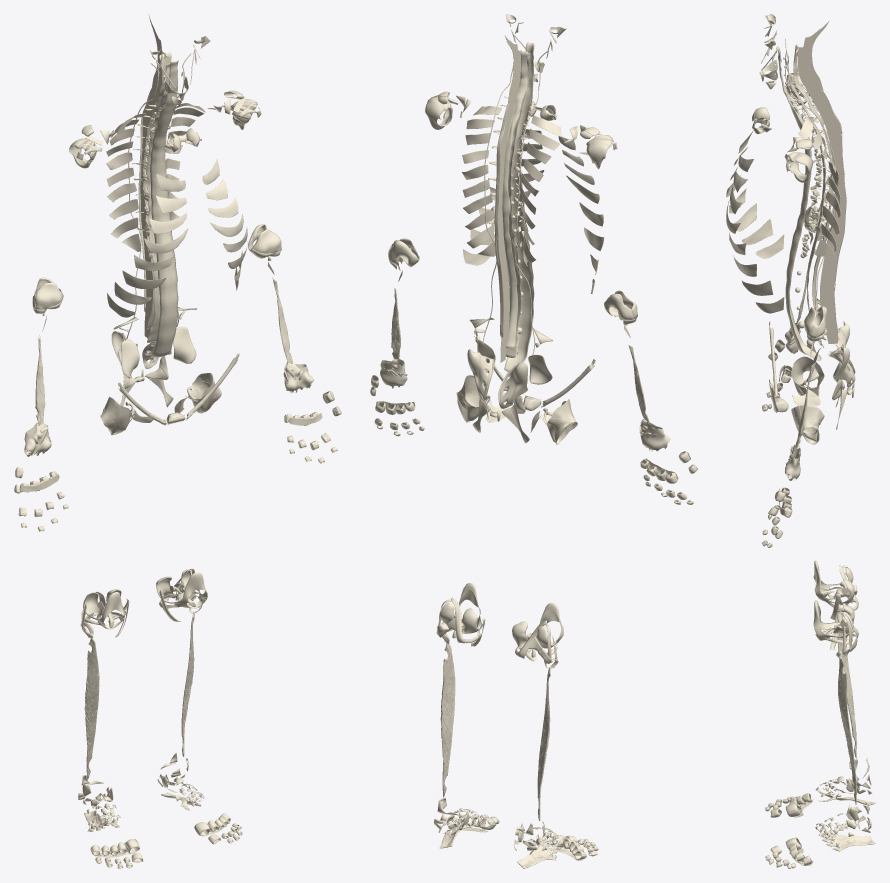
File: ligaments.glb
3 renders of one model, left to right at view 1: azimuth 30°, elevation 25°; view 2: azimuth 150°, elevation 25°; view 3: azimuth 270°, elevation 25°, orthographic.
Parts seen in each view (by area): view 1: Anterior longitudinal ligament, External intercostal membrane.r, Internal intercostal membrane.r, External intercostal membrane.l, Interosseous membrane of leg.r, Interspinous ligaments, Posterior longitudinal ligament, Articular capsule of knee joint.l, Internal intercostal membrane.l, Articular capsule of knee joint.r, Ligamenta flava, Articular capsule of elbow joint.l (+3 smaller); view 2: Anterior longitudinal ligament, Internal intercostal membrane.l, Ligamenta flava, Internal intercostal membrane.r, Interspinous ligaments, Interosseous membrane of leg.l, External intercostal membrane.r, Posterior longitudinal ligament, Articular capsule of knee joint.l, Supraspinous ligament, Articular capsule of knee joint.r, Posterior sacro-iliac ligament.r (+5 smaller); view 3: Interspinous ligaments, Anterior longitudinal ligament, External intercostal membrane.l, Internal intercostal membrane.l, External intercostal membrane.r, Interosseous membrane of leg.l, Articular capsule of knee joint.r, Ligamenta flava, Articular capsule of knee joint.l, Posterior longitudinal ligament, Interosseous membrane of leg.r, Articular capsule of hip joint.r (+11 smaller).
Part boxes in pixels (left/top/right/bottom): Anterior longitudinal ligament: left=148, top=60, right=178, bottom=358; External intercostal membrane.r: left=107, top=174, right=188, bottom=317; Internal intercostal membrane.r: left=106, top=113, right=145, bottom=251; External intercostal membrane.l: left=202, top=159, right=247, bottom=290; Interosseous membrane of leg.r: left=84, top=638, right=99, bottom=780; Interspinous ligaments: left=140, top=51, right=165, bottom=338; Posterior longitudinal ligament: left=146, top=63, right=169, bottom=342; Articular capsule of knee joint.l: left=156, top=569, right=207, bottom=608; Internal intercostal membrane.l: left=165, top=103, right=205, bottom=220; Articular capsule of knee joint.r: left=84, top=589, right=126, bottom=629; Ligamenta flava: left=143, top=52, right=171, bottom=330; Articular capsule of elbow joint.l: left=248, top=224, right=281, bottom=258; Anterior longitudinal ligament: left=504, top=42, right=534, bottom=371; Internal intercostal membrane.l: left=462, top=106, right=501, bottom=256; Ligamenta flava: left=502, top=50, right=528, bottom=348; Internal intercostal membrane.r: left=520, top=115, right=561, bottom=265; Interspinous ligaments: left=496, top=50, right=521, bottom=362; Interosseous membrane of leg.l: left=440, top=643, right=455, bottom=797; External intercostal membrane.r: left=558, top=136, right=604, bottom=293; Posterior longitudinal ligament: left=506, top=53, right=530, bottom=357; Articular capsule of knee joint.l: left=439, top=583, right=481, bottom=643; Supraspinous ligament: left=494, top=104, right=508, bottom=337; Articular capsule of knee joint.r: left=512, top=603, right=563, bottom=655; Posterior sacro-iliac ligament.r: left=498, top=362, right=527, bottom=408; Interspinous ligaments: left=796, top=47, right=846, bottom=343; Anterior longitudinal ligament: left=776, top=46, right=821, bottom=360; External intercostal membrane.l: left=726, top=155, right=784, bottom=313; Internal intercostal membrane.l: left=798, top=113, right=840, bottom=256; External intercostal membrane.r: left=726, top=130, right=784, bottom=258; Interosseous membrane of leg.l: left=838, top=657, right=857, bottom=804; Articular capsule of knee joint.r: left=813, top=560, right=857, bottom=612; Ligamenta flava: left=793, top=45, right=833, bottom=335; Articular capsule of knee joint.l: left=813, top=600, right=856, bottom=644; Posterior longitudinal ligament: left=786, top=51, right=826, bottom=345; Interosseous membrane of leg.r: left=838, top=611, right=857, bottom=758; Articular capsule of hip joint.r: left=791, top=356, right=823, bottom=395.
Bounding box in the file's own units: 0.6582 × 1.58 × 0.2626.
